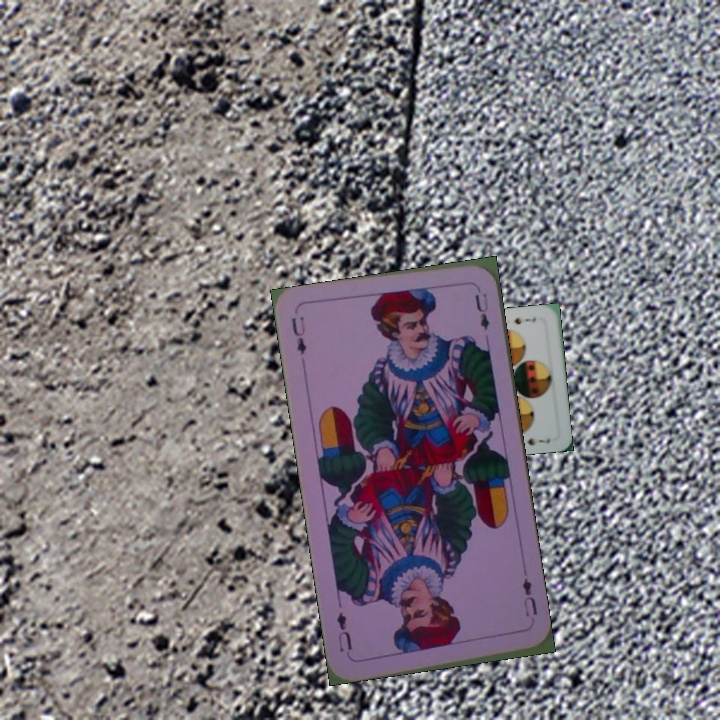EU: (518, 574, 540, 619), (287, 312, 309, 357)
S7: (510, 313, 539, 327)
